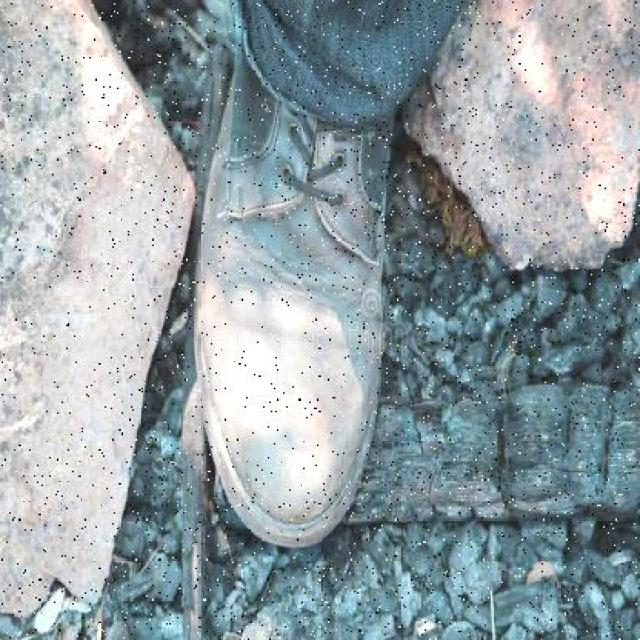shoes: (185, 22, 406, 541)
